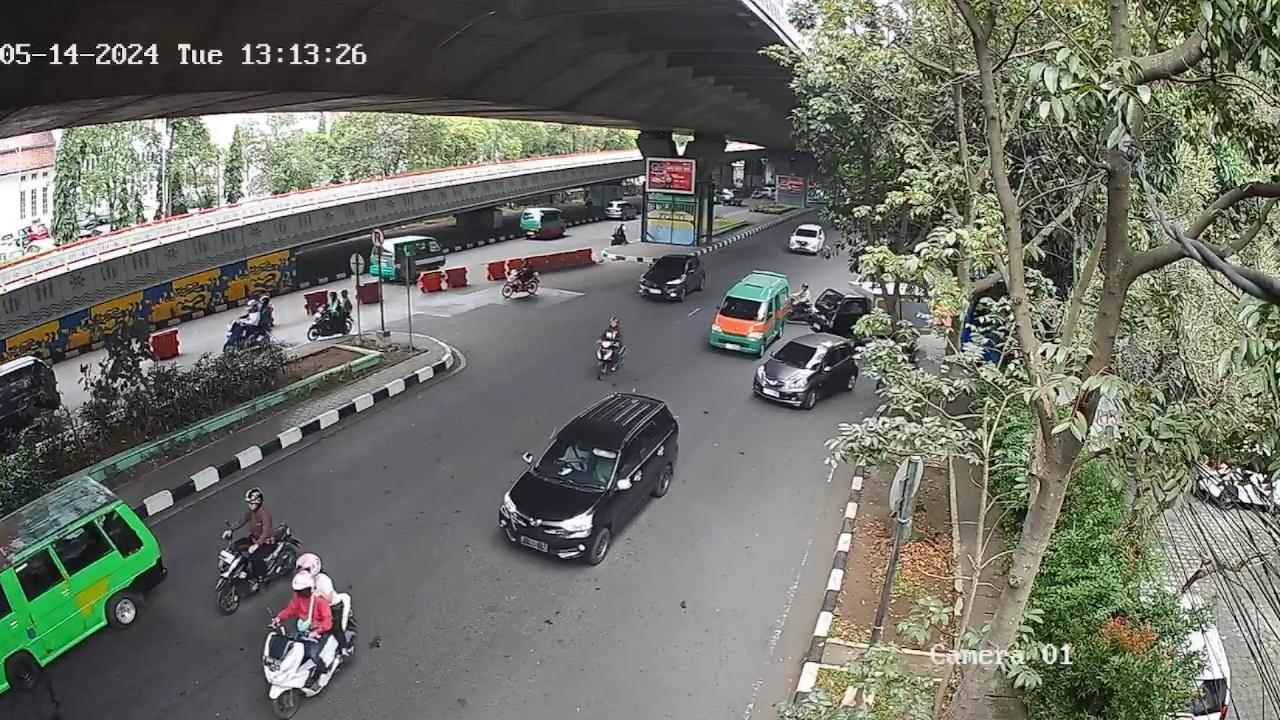pakai: (563, 445, 592, 471)
windshield: (536, 439, 619, 488), (717, 296, 769, 322)
